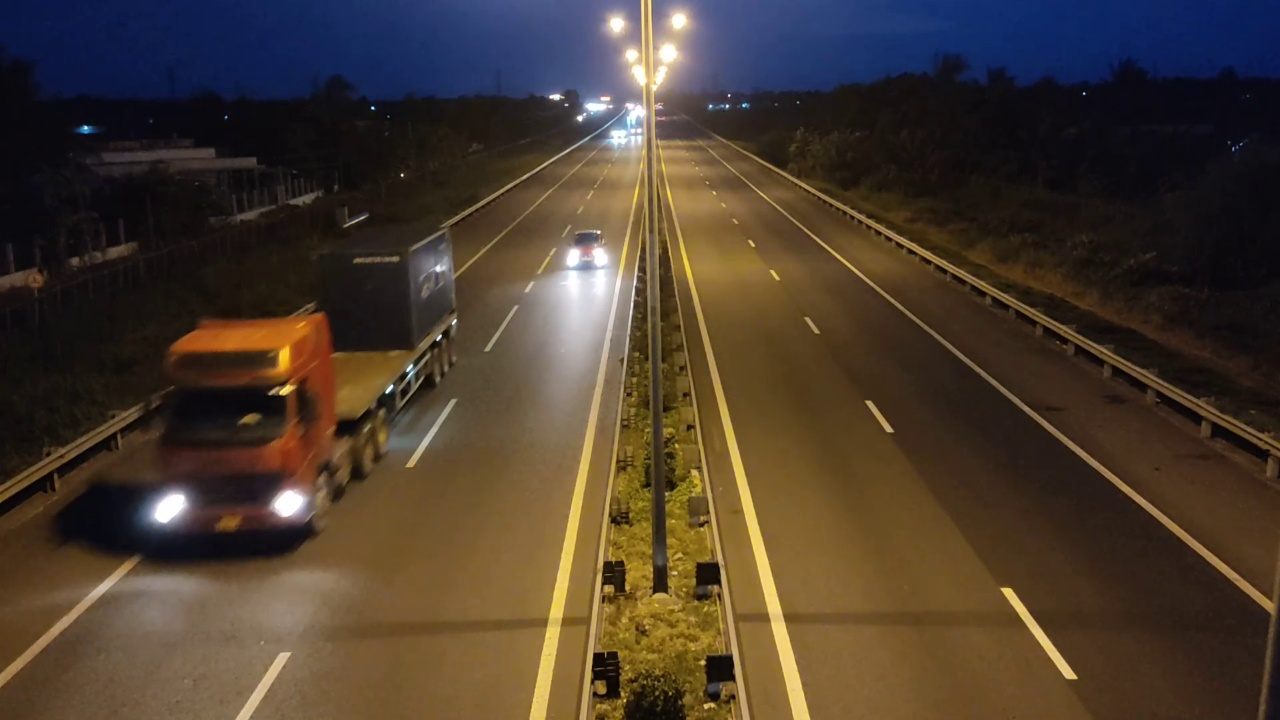car: (559, 221, 612, 272)
truck: (131, 221, 459, 555)
